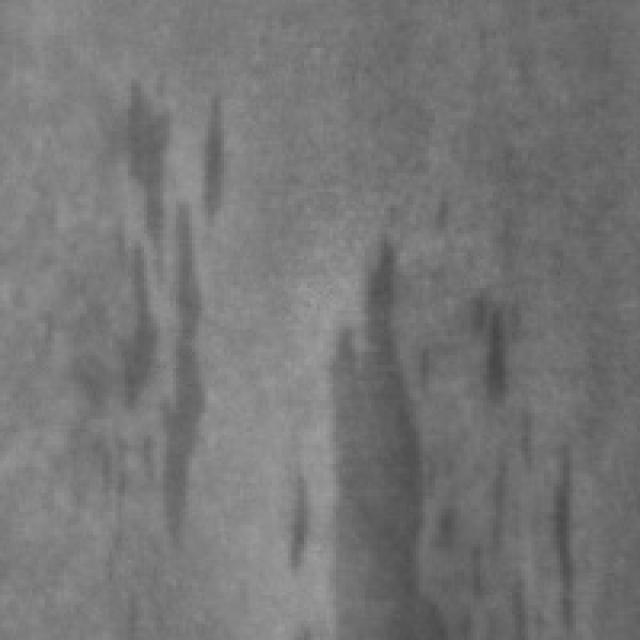inclusion: (64, 70, 230, 541), (269, 218, 438, 630), (429, 390, 579, 628), (452, 272, 518, 416)
